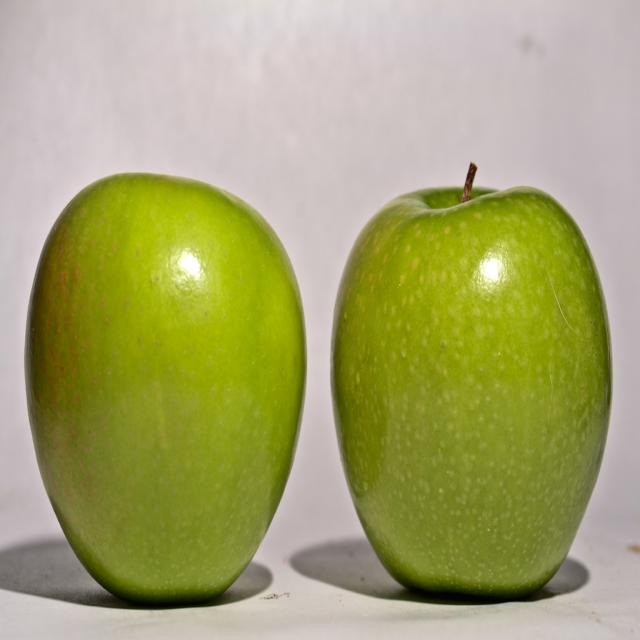Healty Apple: (317, 150, 608, 584), (21, 176, 307, 610)
